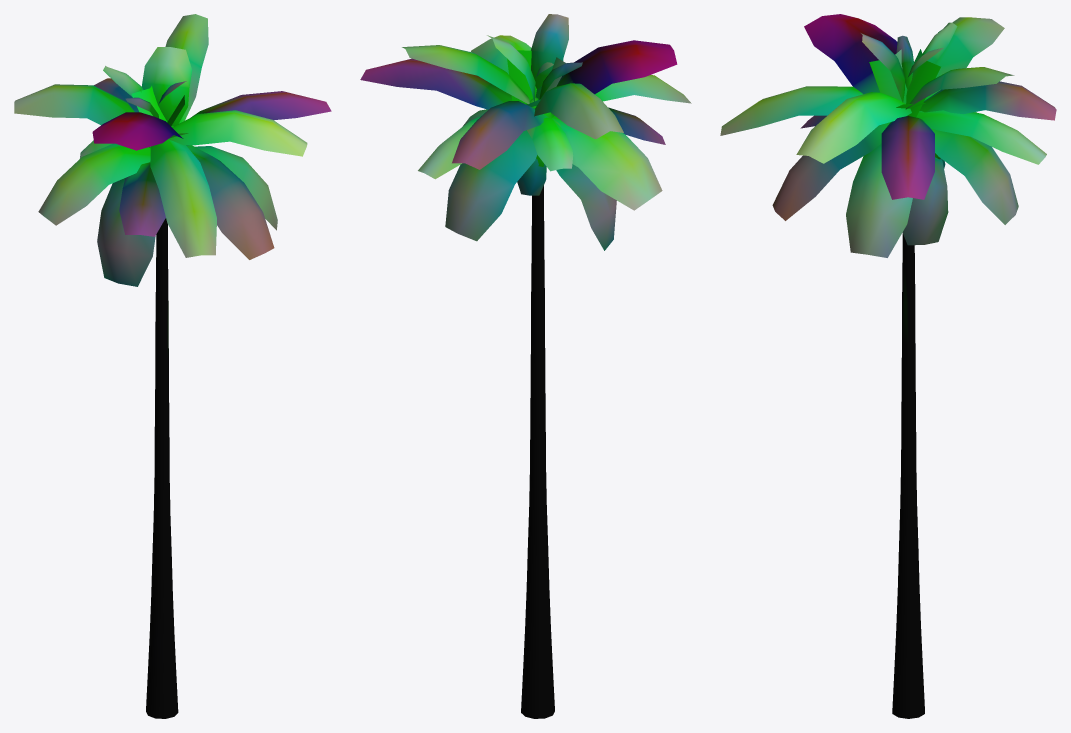
Rendered from palm_tree.glb.
3 views of the same model, side by side, from view 1: azimuth 30°, elevation 25°; view 2: azimuth 150°, elevation 25°; view 3: azimuth 270°, elevation 25° (orthographic). The views are drawn at different scales.
Parts seen in each view (by area): view 1: palm_tree; view 2: palm_tree; view 3: palm_tree.
Boxes of the visible parts, x1,y1,x2,y2 form: palm_tree: (14, 14, 331, 718); palm_tree: (360, 14, 691, 718); palm_tree: (720, 14, 1056, 718).
Size of the model in its own units: 198 by 440 by 198.
